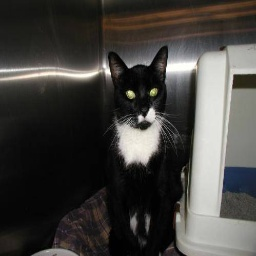cat: (103, 50, 193, 256)
